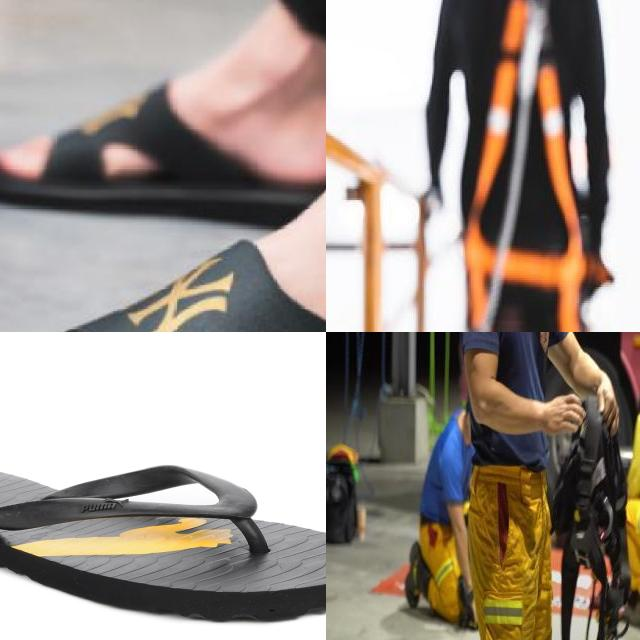Harness: (507, 30, 587, 332), (467, 0, 532, 325)
Sandals: (0, 463, 326, 624), (0, 237, 326, 332)
